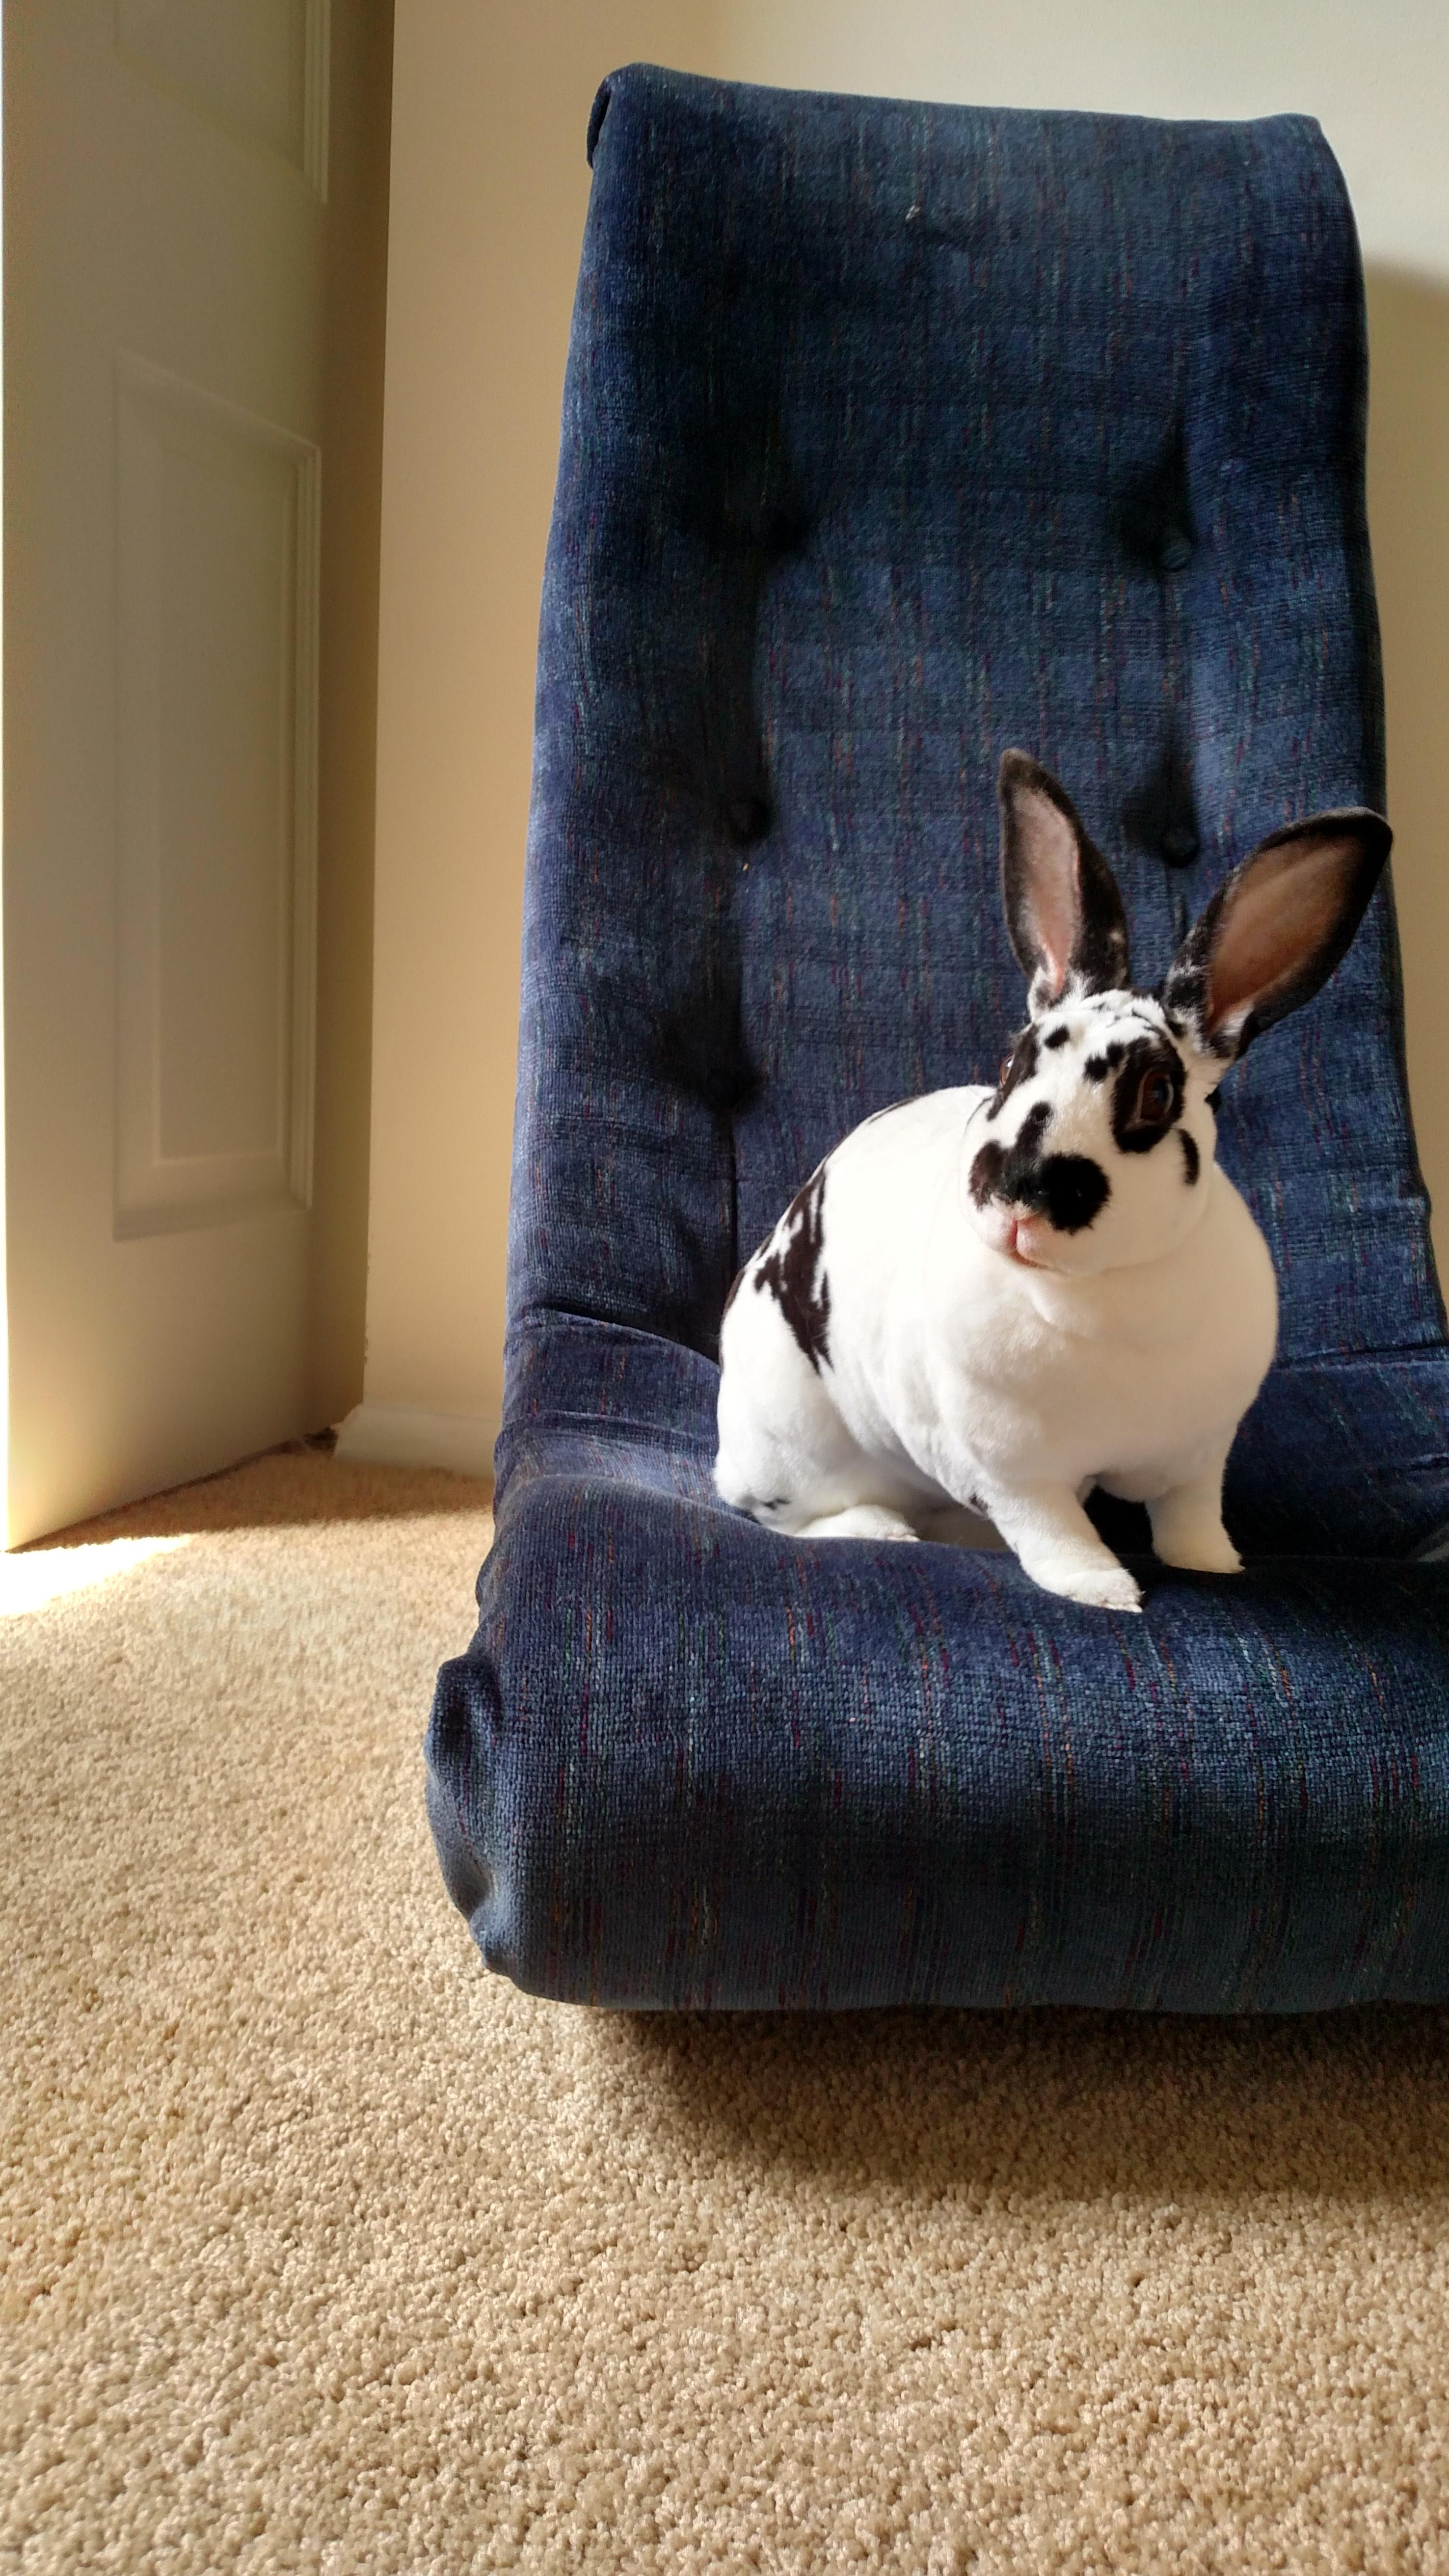bunny: (690, 750, 1421, 1640)
